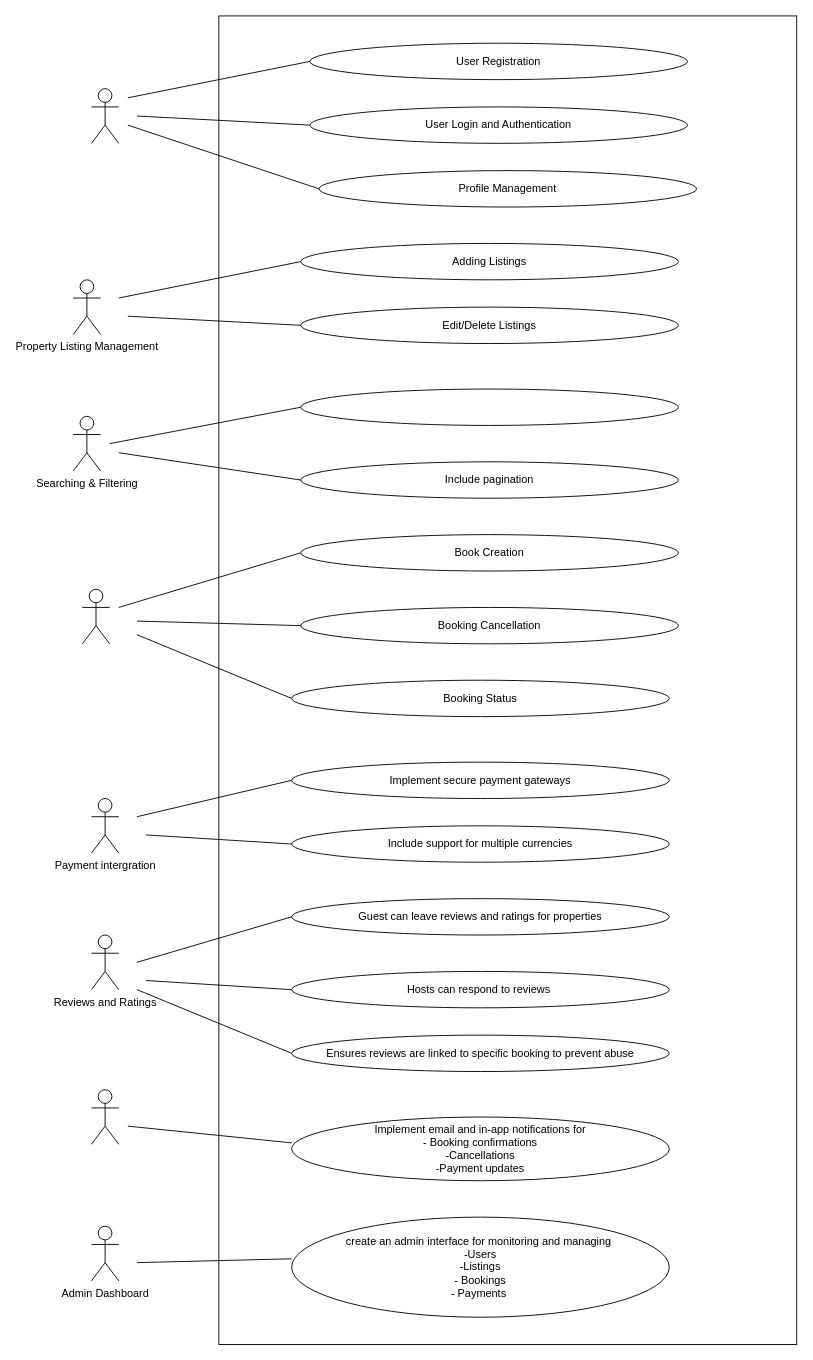
The diagram is 813 pixels wide and 1360 high, and some of its shapes have lost their labels. The centre of each missing label's shape, as x and y in pixels:
Booking Management: point (95, 616)
Implement search functionallty: point (489, 406)
Notifications Systems: point (105, 1116)
User Management: point (105, 115)
